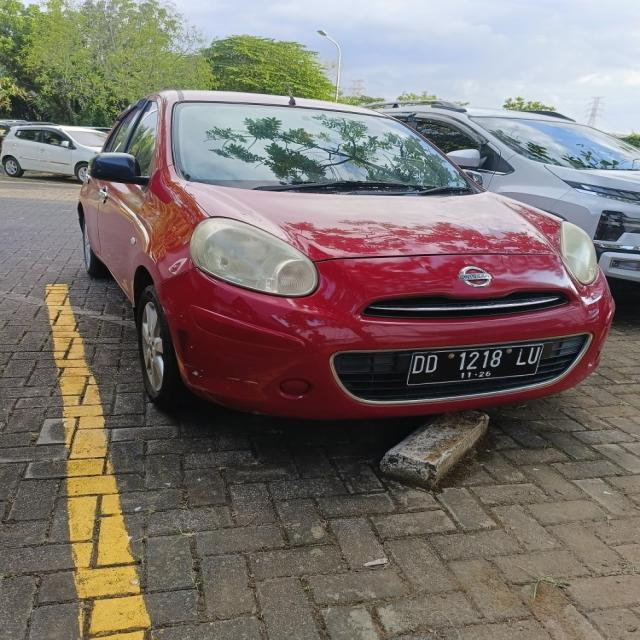plates: (396, 344, 570, 389)
